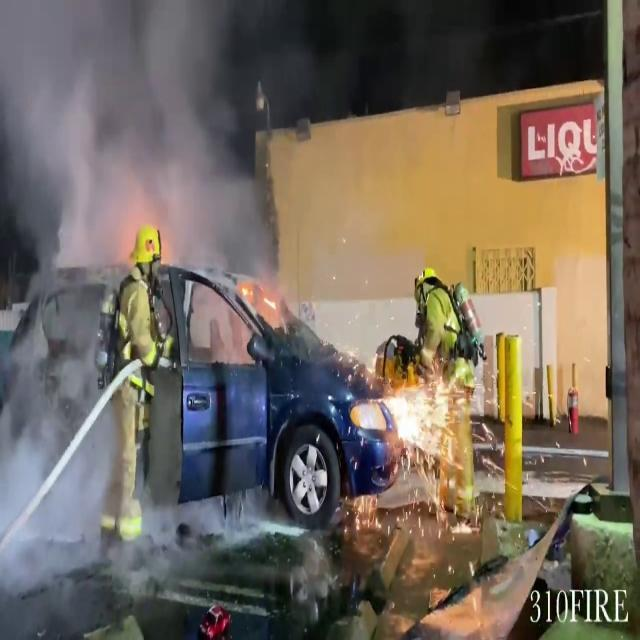Smoke: (0, 0, 278, 279)
